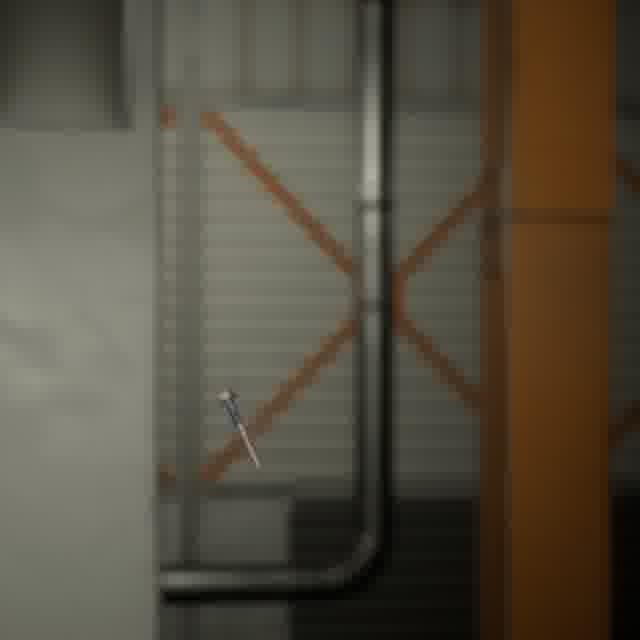bolt: (212, 384, 267, 478)
